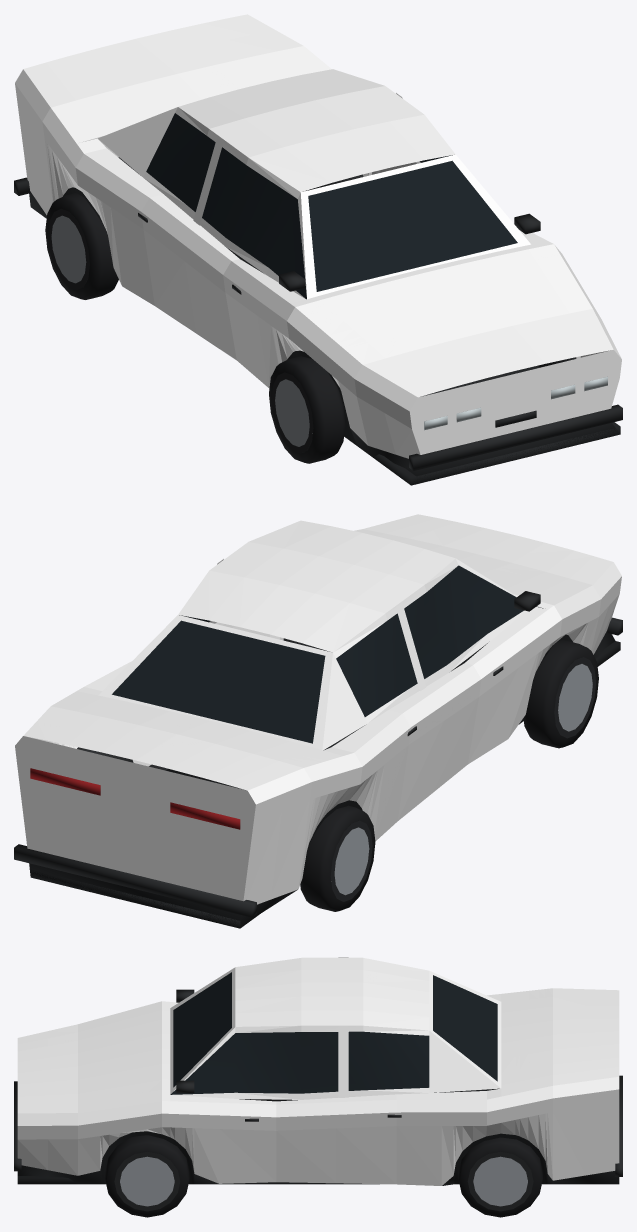
Rendered from keldorf_azimute.glb.
3 views of the same model, one above another, from view 1: azimuth 30°, elevation 25°; view 2: azimuth 150°, elevation 25°; view 3: azimuth 270°, elevation 25° (orthographic). The views are drawn at different scales.
Parts seen in each view (by area): view 1: Body_Paint, Body_Details, Mount_FrontLeft_Wheel_Details, Mount_RearLeft_Wheel_Details; view 2: Body_Paint, Body_Details, Mount_FrontLeft_Wheel_Details, Mount_RearLeft_Wheel_Details; view 3: Body_Paint, Body_Details, Mount_FrontRight_Wheel_Details, Mount_RearRight_Wheel_Details.
Part boxes in pixels (x1,y1,x2,y2): Body_Paint: (15, 14, 621, 458); Body_Details: (14, 113, 622, 485); Mount_FrontLeft_Wheel_Details: (269, 356, 345, 463); Mount_RearLeft_Wheel_Details: (45, 193, 118, 299); Body_Paint: (15, 514, 621, 904); Body_Details: (14, 565, 622, 928); Mount_FrontLeft_Wheel_Details: (523, 640, 598, 748); Mount_RearLeft_Wheel_Details: (300, 805, 375, 911); Body_Paint: (17, 957, 619, 1185); Body_Details: (14, 972, 622, 1185); Mount_FrontRight_Wheel_Details: (105, 1135, 189, 1217); Mount_RearRight_Wheel_Details: (458, 1137, 542, 1217).
Bounding box in the file's own units: 1.89 × 1.4 × 4.39.
Materials: 2 (1 with a texture image).
